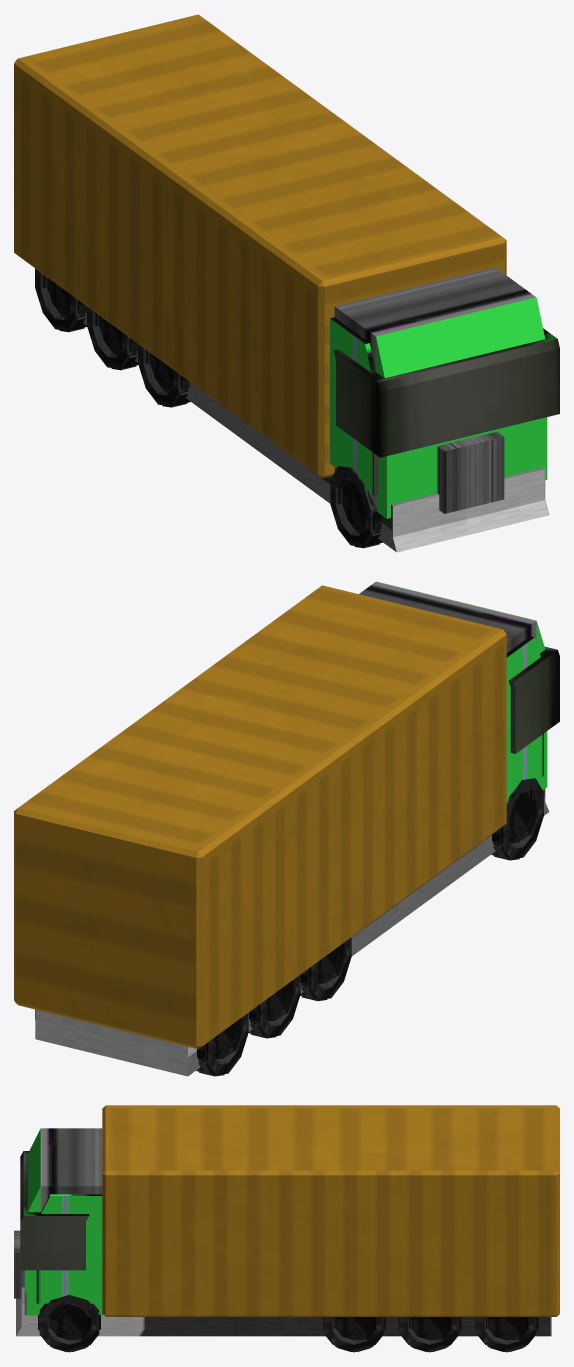
Rendered from vehicle-truck_2.fbx.
3 renders of one model, top to bottom at view 1: azimuth 30°, elevation 25°; view 2: azimuth 150°, elevation 25°; view 3: azimuth 270°, elevation 25°, orthographic. The views are drawn at different scales.
Parts seen in each view (by area): view 1: Cube.046; view 2: Cube.046; view 3: Cube.046.
Boxes of the visible parts, x1,y1,x2,y2 form: Cube.046: (14, 14, 559, 552); Cube.046: (14, 581, 559, 1076); Cube.046: (14, 1105, 559, 1352).
Bounding box in the file's own units: 200 × 251 × 677.
